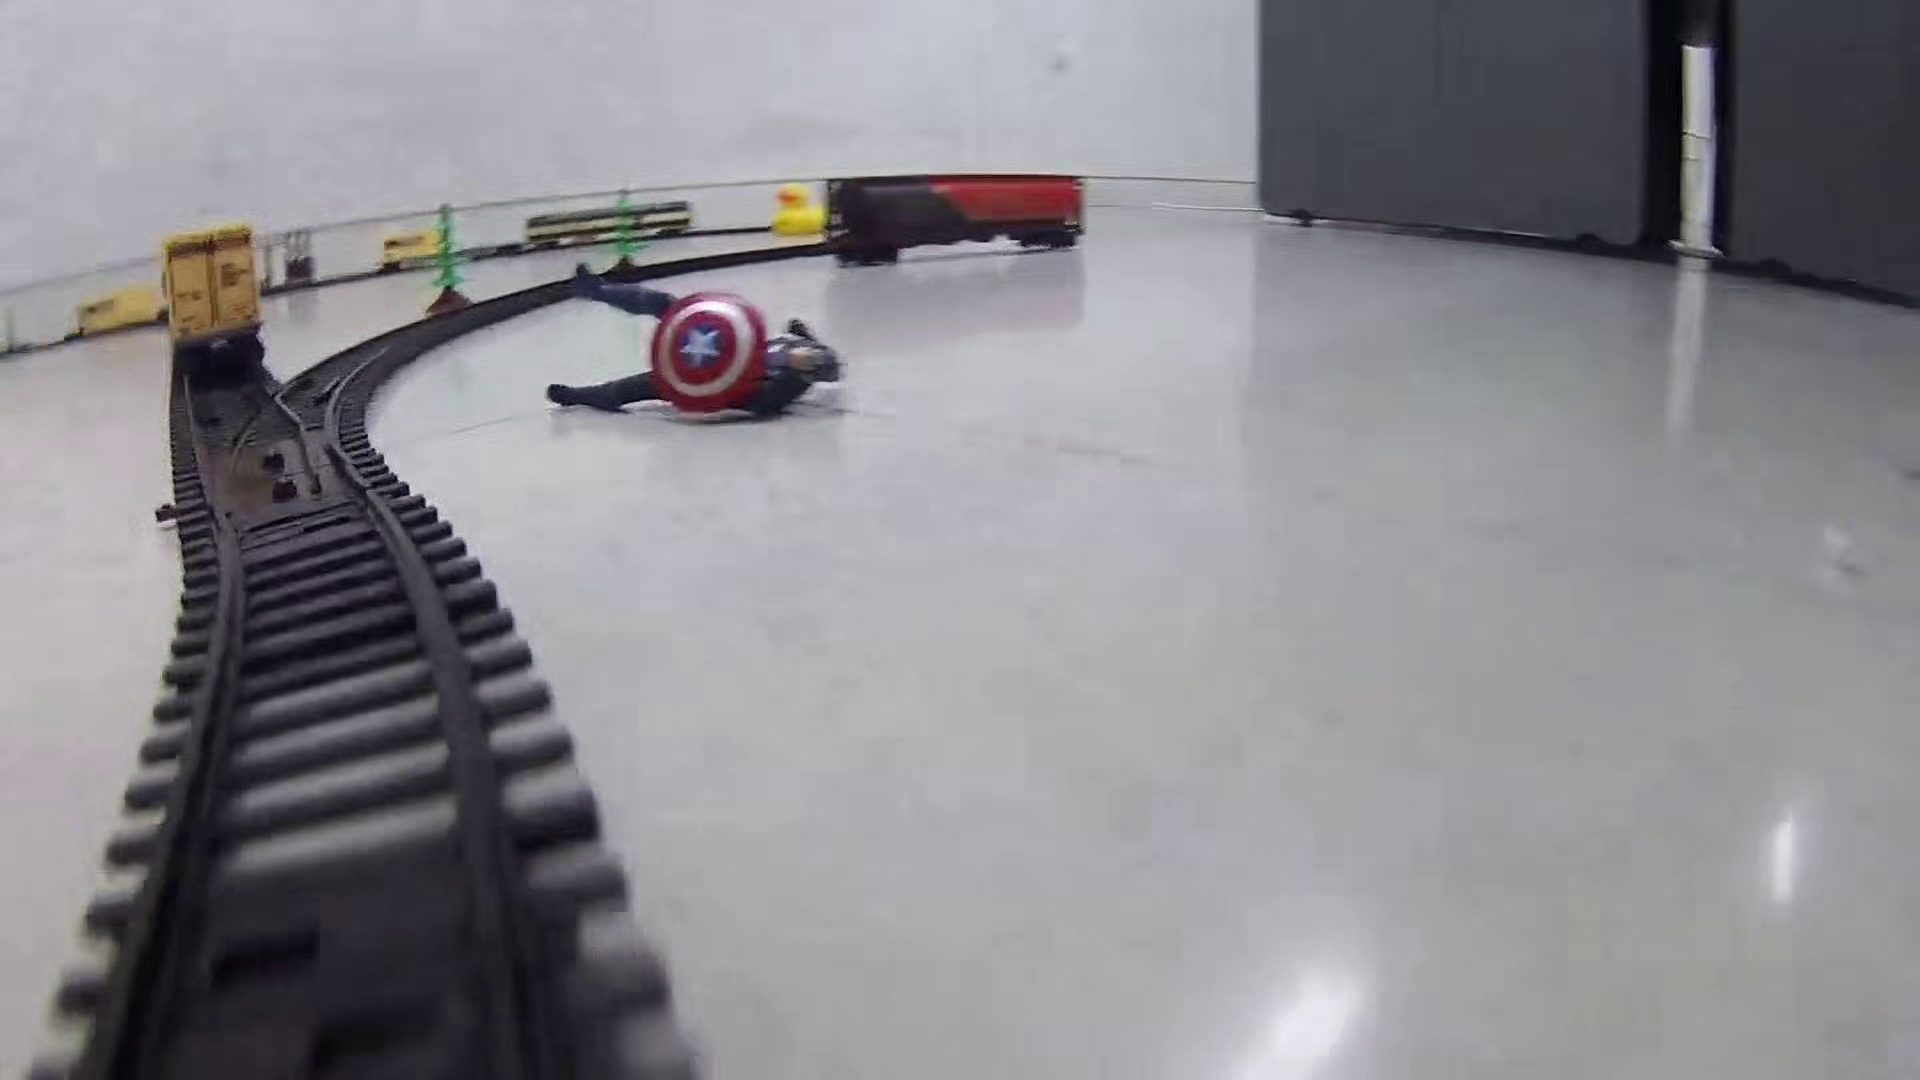people: (543, 262, 843, 423)
tree: (422, 203, 482, 315)
